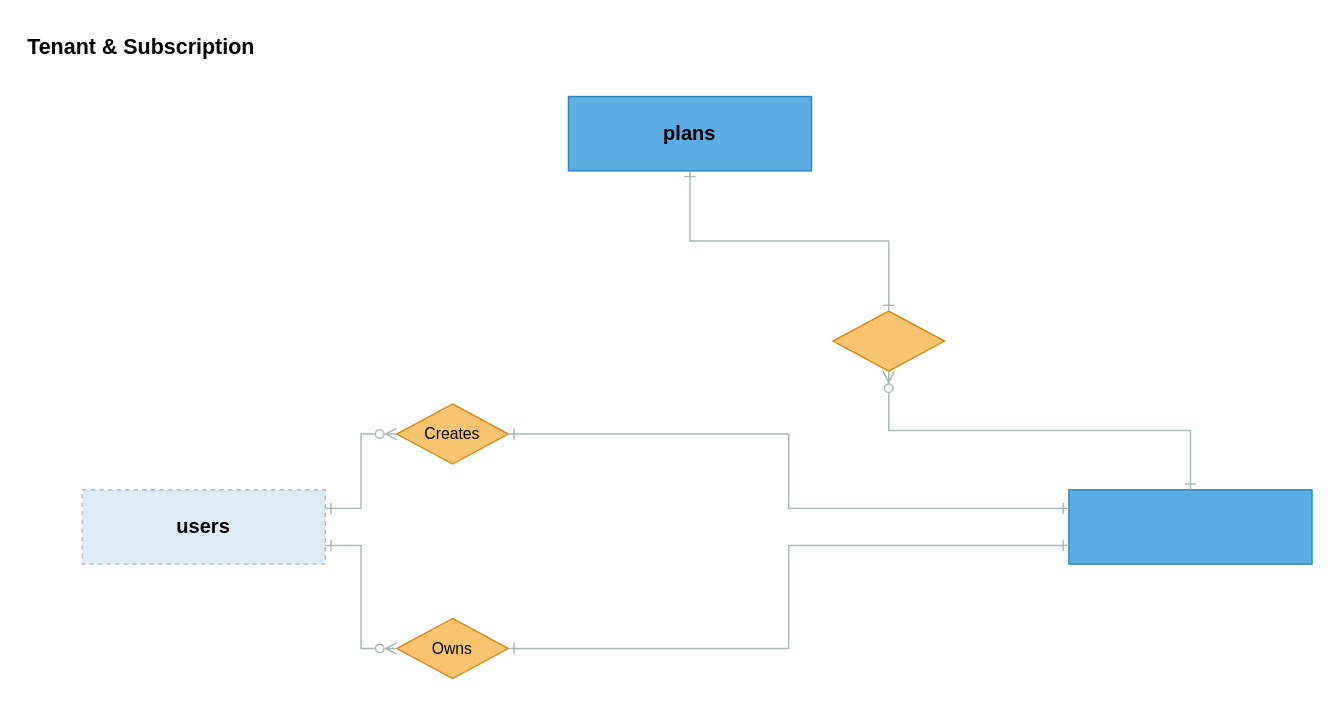
Image size: 1337x704. Some labels were removed from this diagram. The shapes that lost their labels are listed below. From the top down, each one's box as (x1, y1, x2, y2) in pixels, then its label:
(832, 310, 945, 371): Applied To
(1067, 488, 1312, 564): tenants
